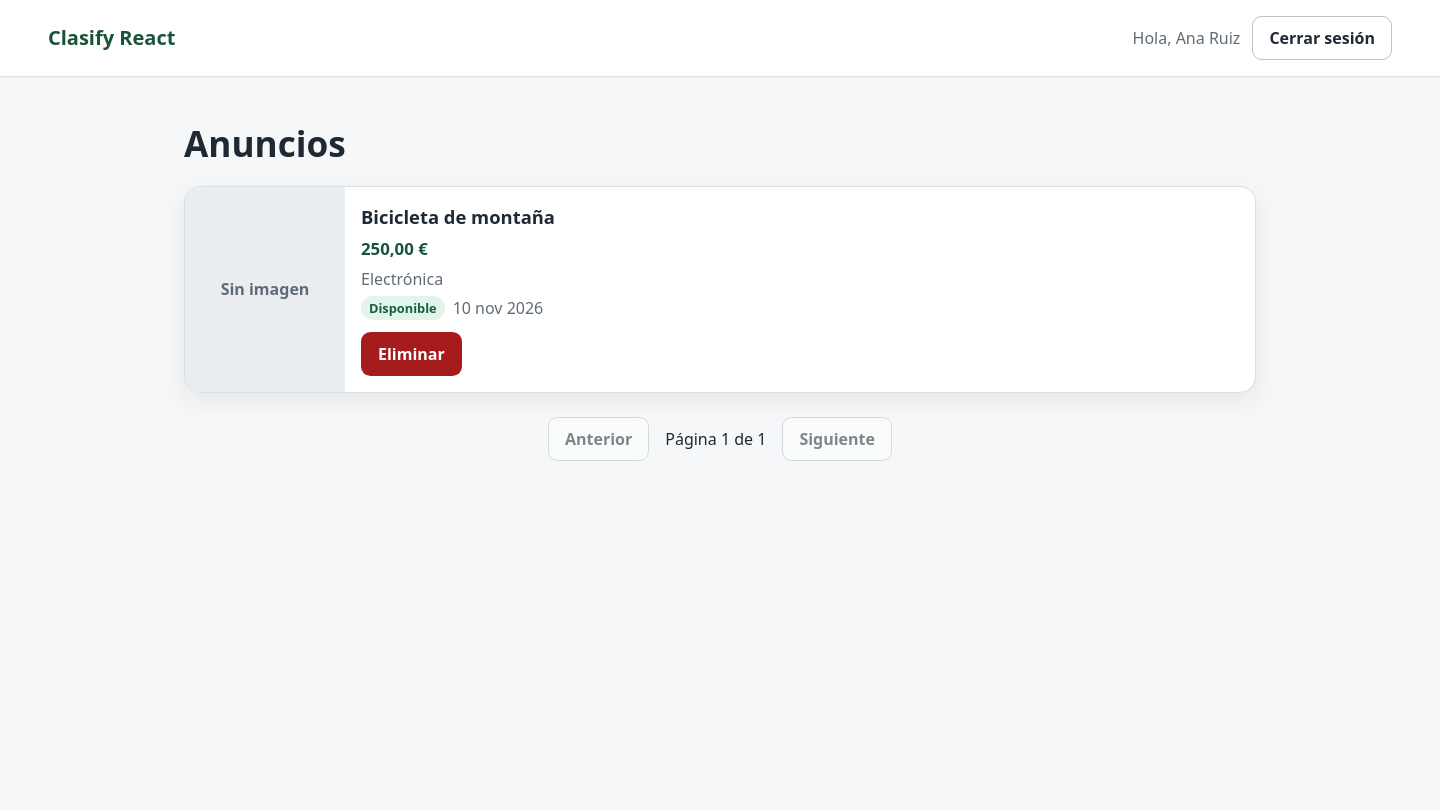
accesibilidad del frontend React › mueve el foco a la confirmación y permite cancelar
Click the button with aria-label "Eliminar Bicicleta de montaña" at (411, 354), box [361,332,462,376]
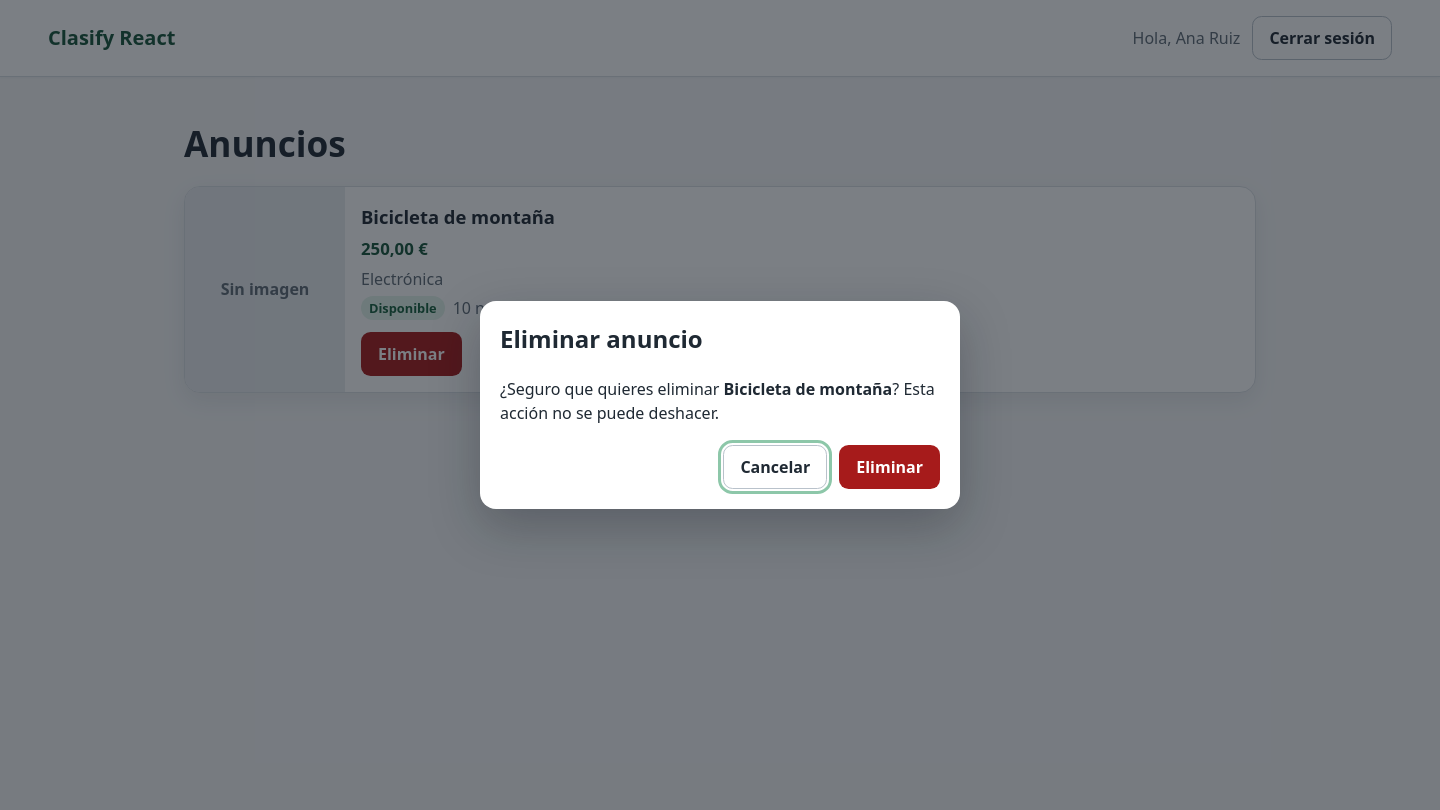
Click the button "Cancelar" at (775, 467), box [723,445,827,489]
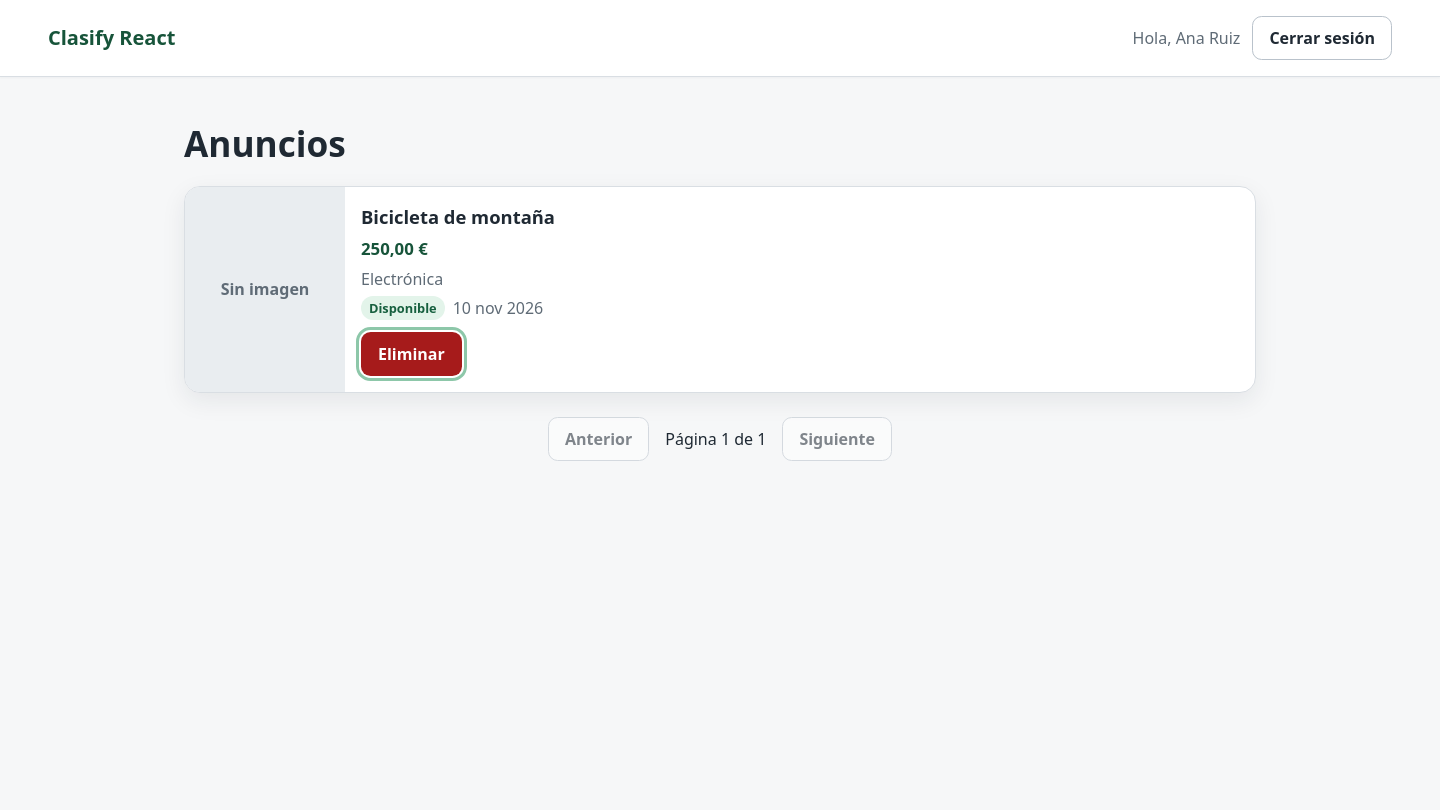
Expected: the dialog is gone
